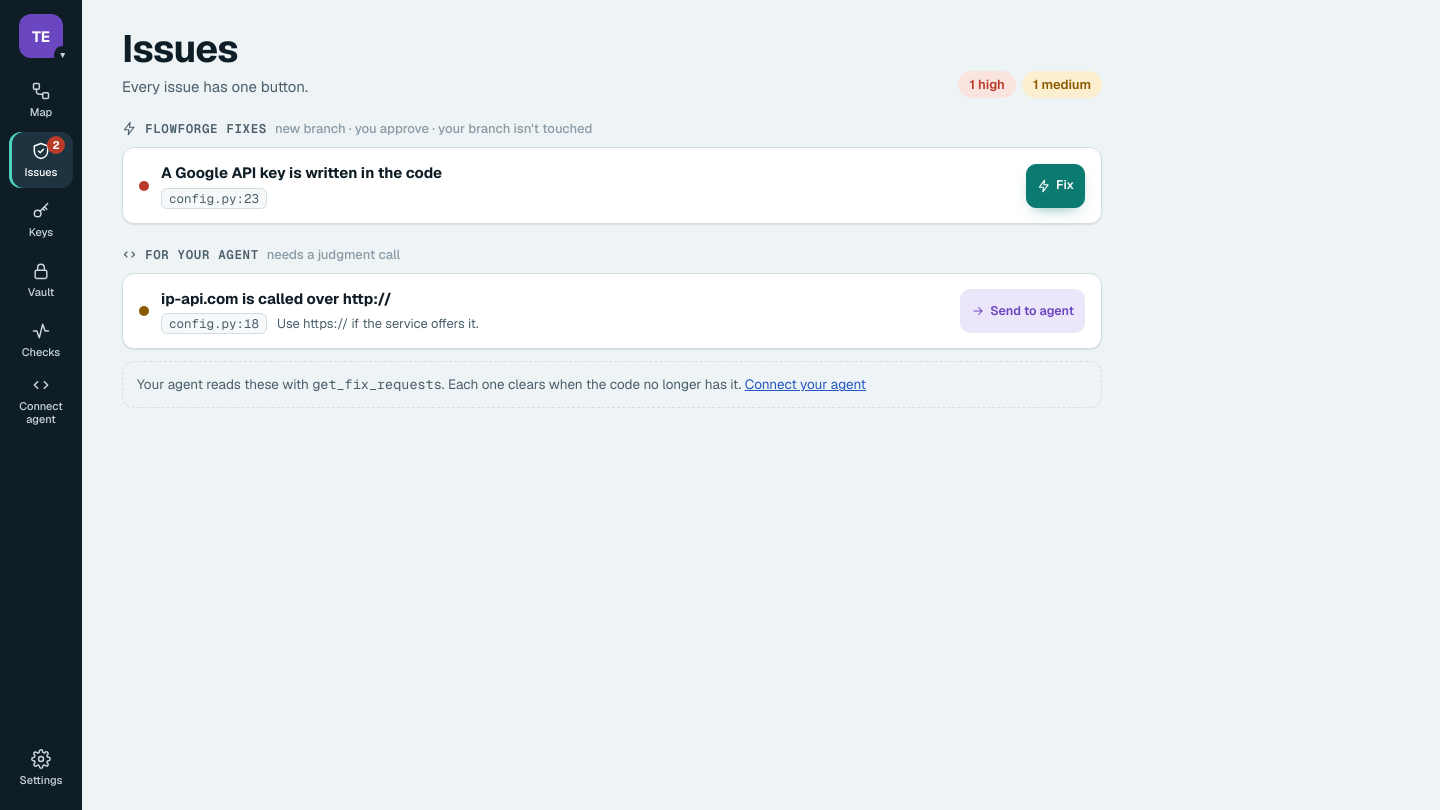
Test: Fix shows the change with the key masked, and Approve makes it on a new branch
The width and height of the screenshot is (1440, 810).
Step 1. Click the button "Fix" → [1056, 186], box [1026,164,1085,208]
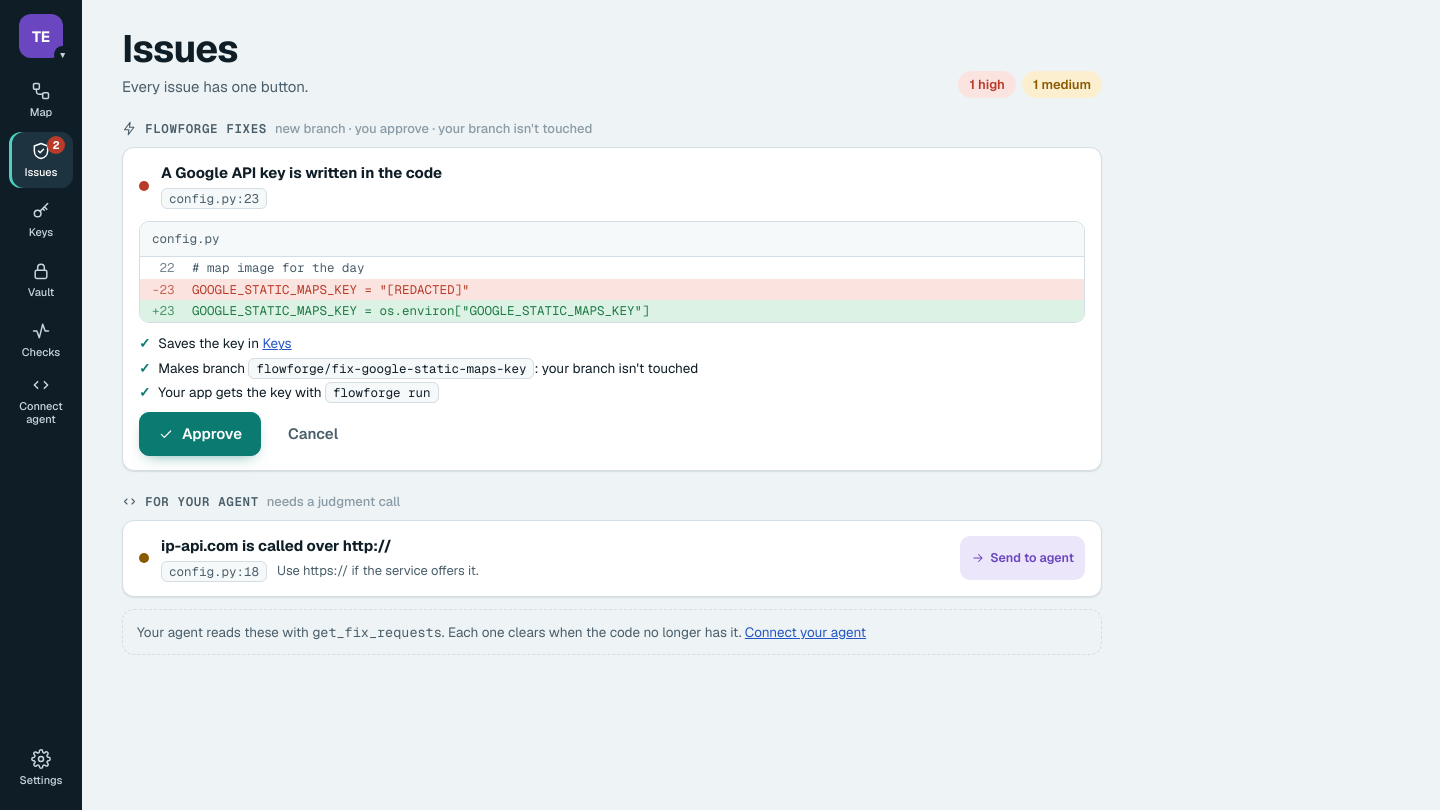
Check: the text "flowforge/fix-google-static-maps-key" is shown, box [248,358,534,378]
Step 2. Click the button "Approve" → [200, 434], box [139,412,261,456]
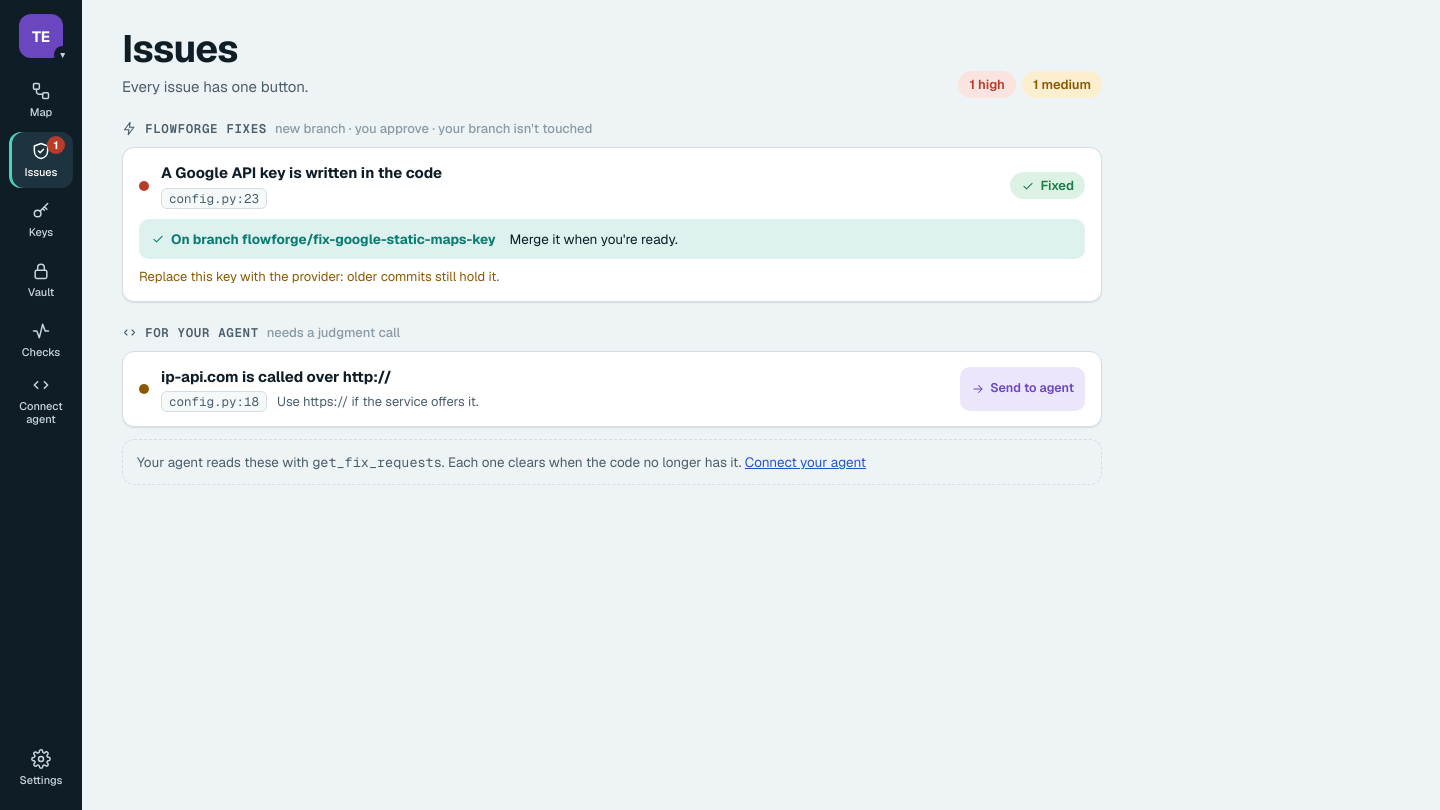
Check: the text "On branch flowforge/fix-google-static-maps-key" is shown, box [151,229,496,249]
Check: the text "older commits still hold it" is shown, box [139,268,499,285]
